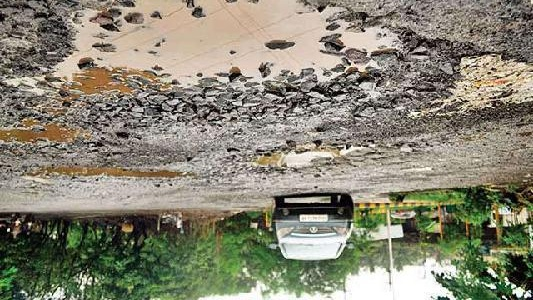pothole: (0, 0, 468, 126), (242, 140, 366, 177), (35, 160, 193, 181), (0, 122, 100, 151)
